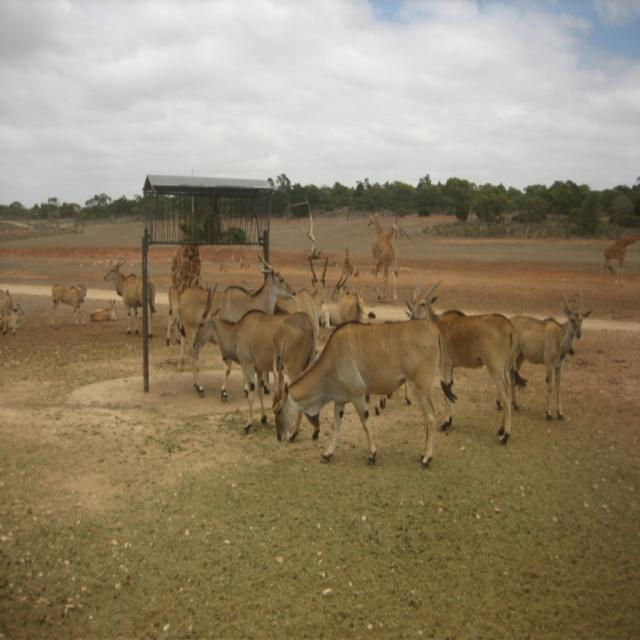Deer: (267, 320, 450, 464), (408, 280, 515, 446), (170, 256, 298, 384), (504, 295, 583, 418), (192, 281, 255, 400), (104, 263, 156, 334), (276, 262, 332, 321), (370, 218, 398, 304), (600, 225, 638, 286), (46, 279, 90, 328), (332, 282, 368, 325), (0, 289, 24, 338), (90, 299, 116, 321)
